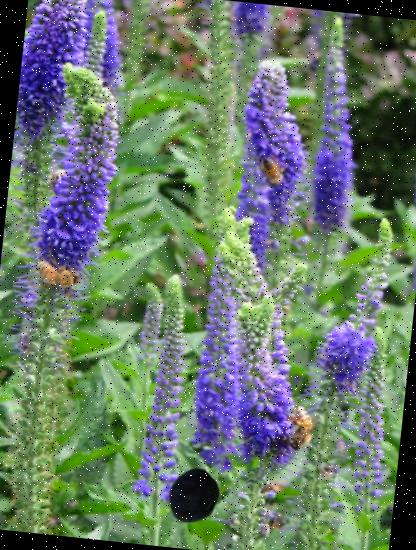Blueberry: (162, 466, 224, 528)
